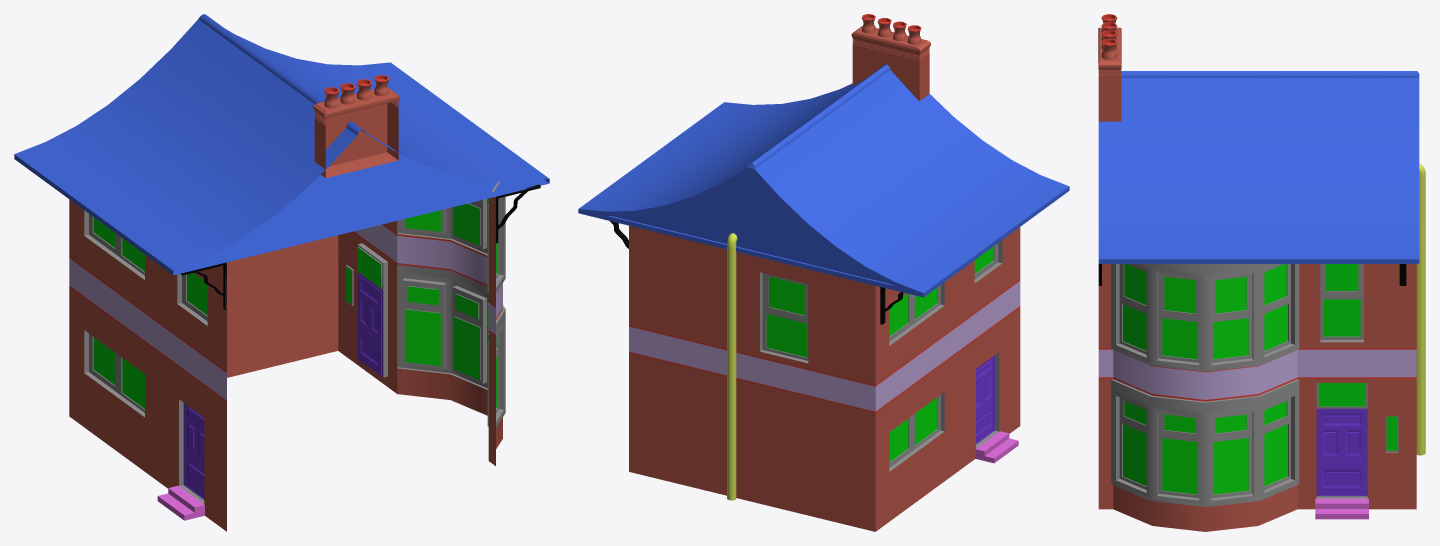
Rendered from End_House_Right_Mesh.fbx.
The picture shows the model from 3 angles, left to right: view 1: azimuth 30°, elevation 25°; view 2: azimuth 150°, elevation 25°; view 3: azimuth 270°, elevation 25°; orthographic projection. The views are drawn at different scales.
Parts seen in each view (by area): view 1: End_House_Right; view 2: End_House_Right; view 3: End_House_Right.
Boxes of the visible parts, x1,y1,x2,y2 form: End_House_Right: (14,14,549,531); End_House_Right: (578,14,1069,531); End_House_Right: (1098,14,1425,531).
Bounding box in the file's own units: 628 × 840 × 876.
